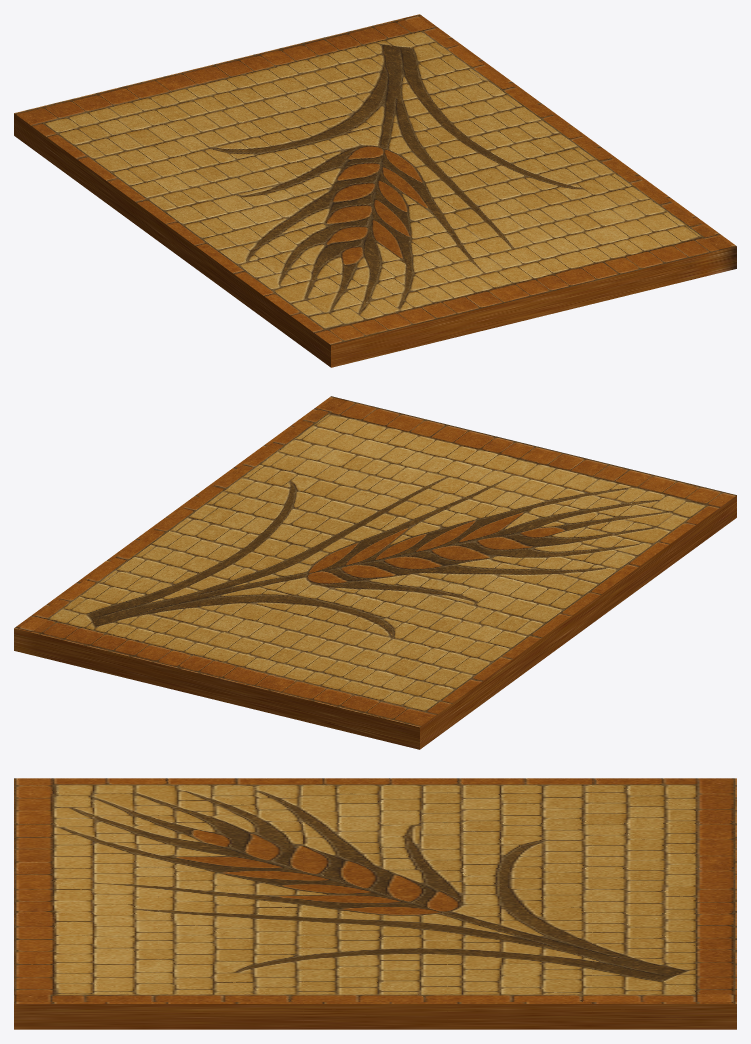
The model's file is mosaicwheat.glb.
3 views of the same model, one above another, from view 1: azimuth 30°, elevation 25°; view 2: azimuth 150°, elevation 25°; view 3: azimuth 270°, elevation 25° (orthographic). The views are drawn at different scales.
Visible parts, largest first — view 1: Cube.022, Cube.017, Cube.016, Cube.007, Cube.002, Cube.026, Cube.024, Cube.025, Cube.023, Cube.005, Cube.004, Cube.020 (+13 smaller); view 2: Cube.026, Cube.021, Cube.012, Cube.011, Cube.006, Cube.022, Cube.024, Cube.023, Cube.025, Cube.002, Cube.005, Cube.004 (+13 smaller); view 3: Cube.005, Cube.003, Cube.002, Cube.004, Cube.006, Cube.020, Cube.018, Cube.013, Cube.010, Cube.023, Cube.015, Cube.008 (+13 smaller).
Part boxes in pixels (x1=…): Cube.022: x1=267, y1=279, x2=412, y2=367; Cube.017: x1=349, y1=259, x2=493, y2=347; Cube.016: x1=430, y1=239, x2=574, y2=327; Cube.007: x1=511, y1=219, x2=655, y2=308; Cube.002: x1=593, y1=200, x2=736, y2=288; Cube.026: x1=14, y1=93, x2=158, y2=181; Cube.024: x1=141, y1=186, x2=284, y2=274; Cube.025: x1=77, y1=140, x2=221, y2=228; Cube.023: x1=204, y1=232, x2=348, y2=320; Cube.005: x1=402, y1=60, x2=545, y2=126; Cube.004: x1=466, y1=107, x2=609, y2=172; Cube.020: x1=159, y1=120, x2=302, y2=185; Cube.026: x1=338, y1=661, x2=483, y2=749; Cube.021: x1=257, y1=641, x2=401, y2=729; Cube.012: x1=176, y1=621, x2=320, y2=709; Cube.011: x1=95, y1=601, x2=239, y2=690; Cube.006: x1=14, y1=582, x2=157, y2=670; Cube.022: x1=592, y1=475, x2=736, y2=563; Cube.024: x1=466, y1=568, x2=609, y2=656; Cube.023: x1=529, y1=522, x2=673, y2=610; Cube.025: x1=402, y1=614, x2=546, y2=702; Cube.002: x1=268, y1=396, x2=411, y2=462; Cube.005: x1=78, y1=535, x2=221, y2=601; Cube.004: x1=141, y1=489, x2=284, y2=554; Cube.005: x1=447, y1=959, x2=592, y2=1029; Cube.003: x1=158, y1=959, x2=303, y2=1029; Cube.002: x1=14, y1=959, x2=158, y2=1029; Cube.004: x1=303, y1=959, x2=447, y2=1029; Cube.006: x1=592, y1=959, x2=736, y2=1029; Cube.020: x1=447, y1=823, x2=592, y2=868; Cube.018: x1=158, y1=823, x2=303, y2=868; Cube.013: x1=447, y1=868, x2=592, y2=913; Cube.010: x1=447, y1=913, x2=592, y2=958; Cube.023: x1=158, y1=778, x2=303, y2=823; Cube.015: x1=158, y1=868, x2=303, y2=913; Cube.008: x1=158, y1=913, x2=303, y2=958.
Bounding box in the file's own units: 3.7 × 0.1962 × 5.01.
1 material, 1 textured.
